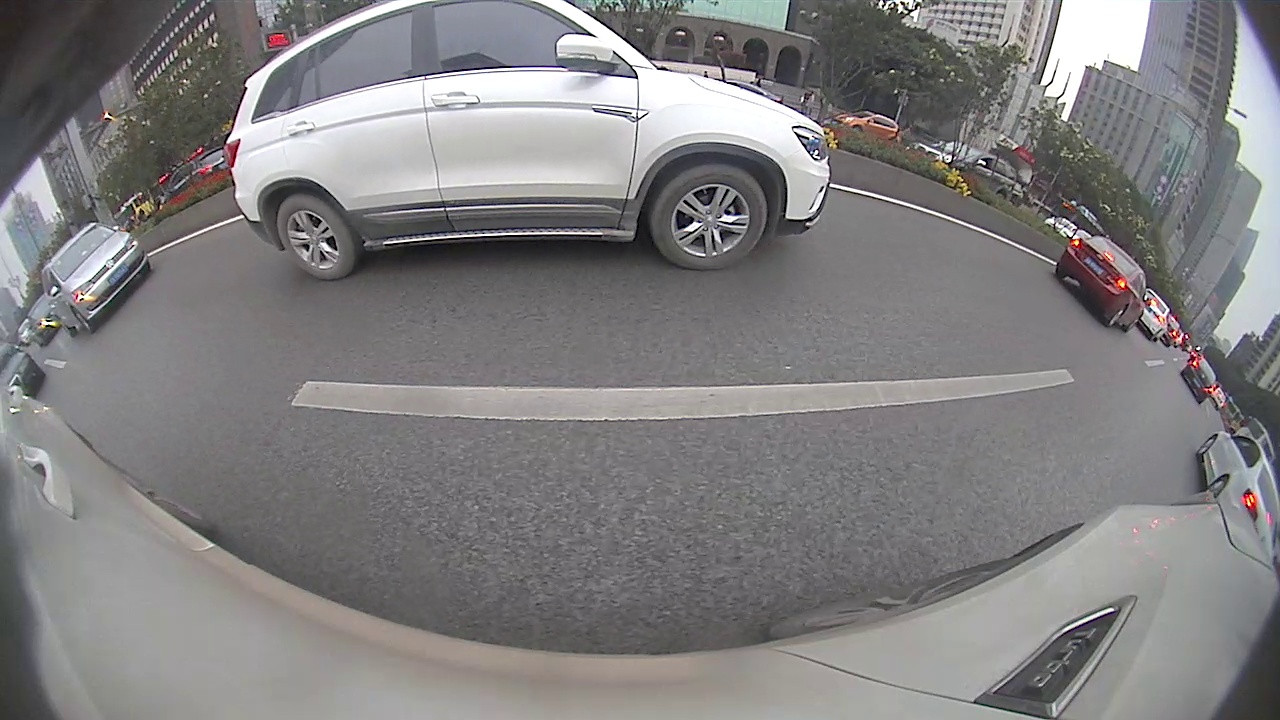bus: (658, 133, 718, 183)
car: (886, 177, 1083, 273), (780, 162, 854, 205), (1055, 217, 1103, 277), (1232, 361, 1279, 406), (733, 160, 779, 190), (840, 171, 873, 204), (566, 161, 602, 188)
front: (891, 199, 911, 226), (781, 181, 792, 195)
rear: (984, 228, 1016, 263), (806, 182, 819, 203)
